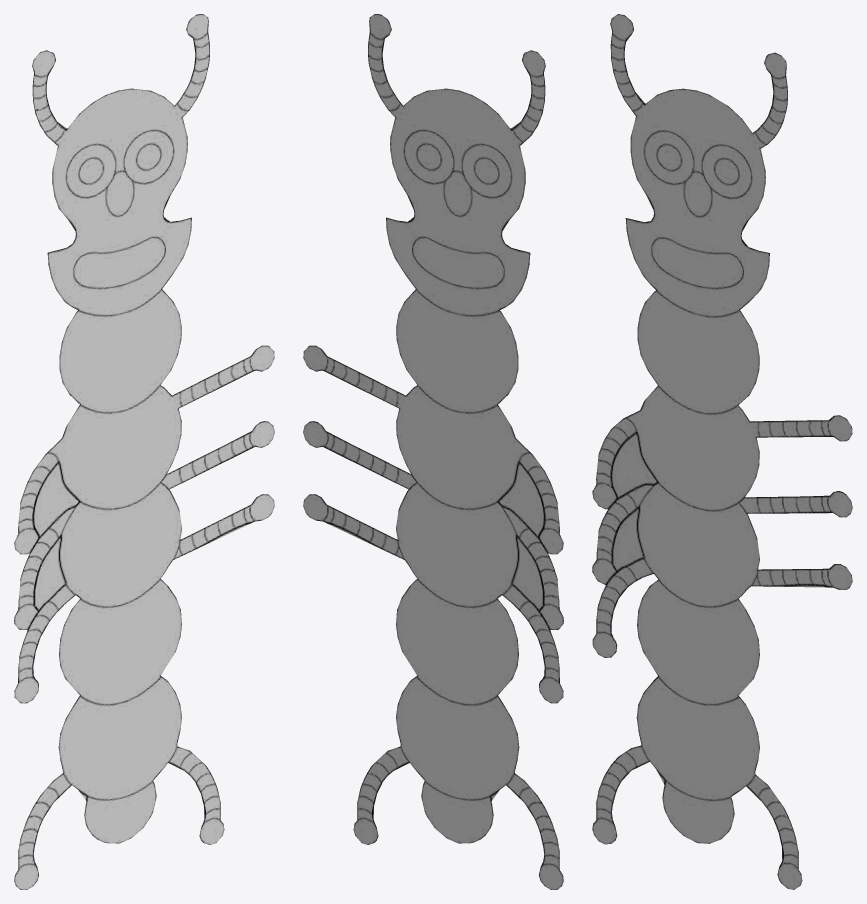
Rendered from 14_checkga_fix.fbx.
3 renders of one model, left to right at view 1: azimuth 30°, elevation 25°; view 2: azimuth 150°, elevation 25°; view 3: azimuth 330°, elevation 25°, orthographic.
Parts seen in each view (by area): view 1: planarTrimmedSurface28; view 2: planarTrimmedSurface28; view 3: planarTrimmedSurface28.
Part boxes in pixels (x1=…): planarTrimmedSurface28: x1=14, y1=14, x2=274, y2=889; planarTrimmedSurface28: x1=303, y1=14, x2=563, y2=889; planarTrimmedSurface28: x1=592, y1=14, x2=852, y2=889.
Size of the model in its own units: 4.95 by 15.14 by 2.47e-06.
Materials: 1 (1 with a texture image).
